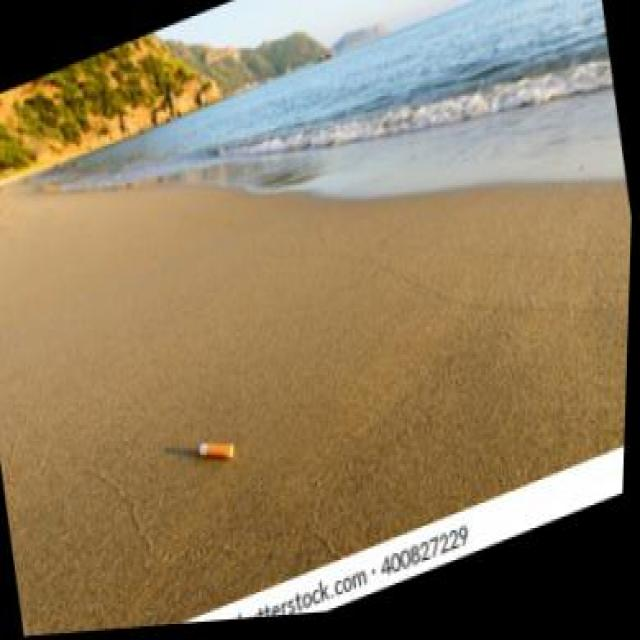cigarette: (197, 431, 241, 476)
